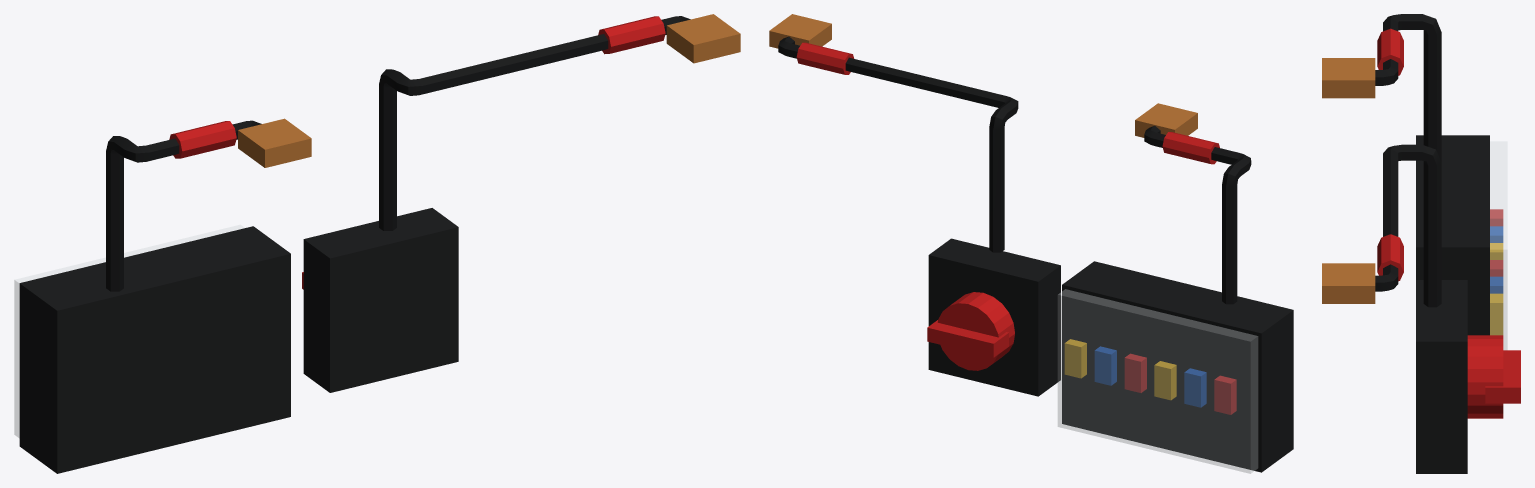
File: el6-8-battery.glb
The picture shows the model from 3 angles, left to right: view 1: azimuth 30°, elevation 25°; view 2: azimuth 150°, elevation 25°; view 3: azimuth 270°, elevation 25°; orthographic projection. The views are drawn at different scales.
Visible parts, largest first — view 1: xs_el6_8_battery; view 2: xs_el6_8_battery; view 3: xs_el6_8_battery.
Part boxes in pixels (x1,y1,x2,y2): xs_el6_8_battery: (14,14,740,473); xs_el6_8_battery: (769,14,1293,473); xs_el6_8_battery: (1322,14,1520,473).
Size of the model in its own units: 0.3261 by 0.1585 by 0.0899.
